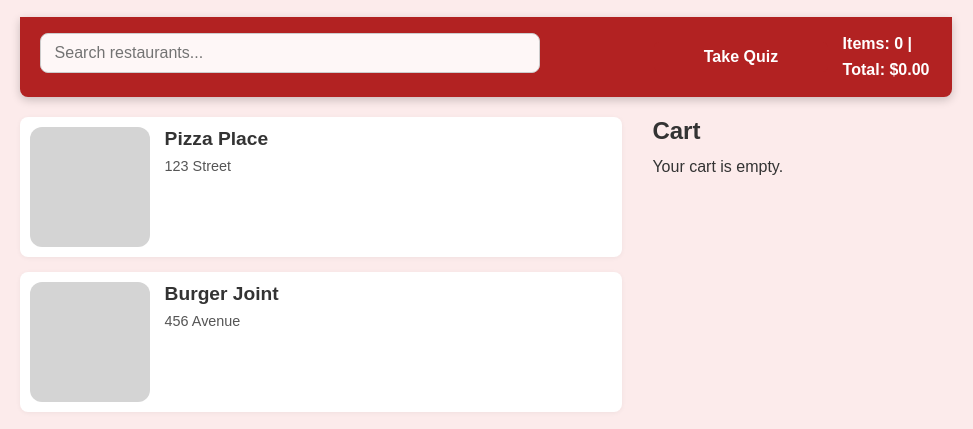
Browse Component - coverage tests › search restaurants input filters correctly
Expected: the heading "Pizza Place" is shown, [165,128,268,149]
Type "Burger" into the field with placeholder "Search restaurants..." at (290, 53), box [40,33,540,73]
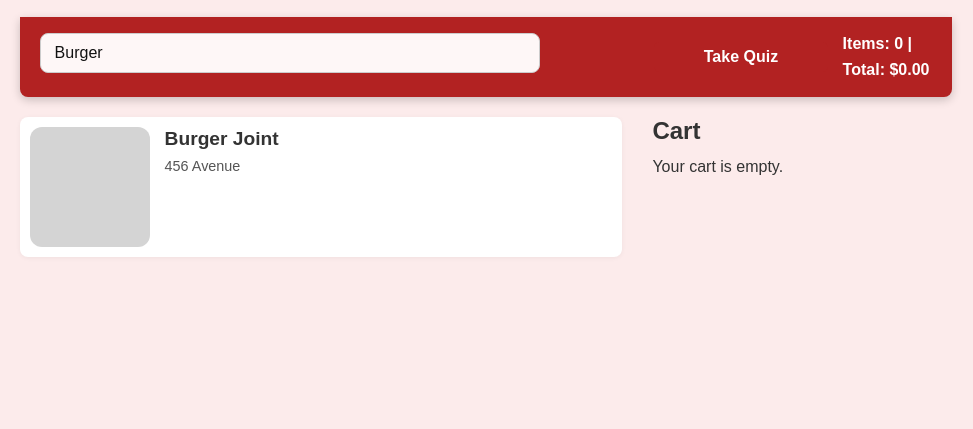
Expected: the heading "Burger Joint" is shown, [165,128,279,149]
Result: the heading "Pizza Place" is gone
